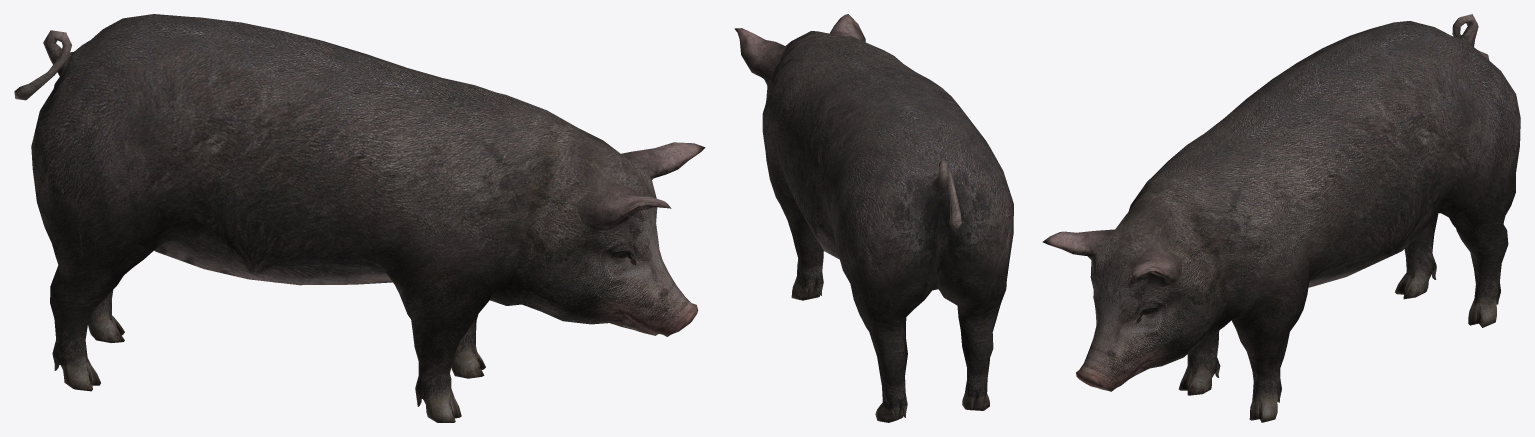
3 views of the same model, side by side, from view 1: azimuth 30°, elevation 25°; view 2: azimuth 150°, elevation 25°; view 3: azimuth 270°, elevation 25° (orthographic). The views are drawn at different scales.
Parts seen in each view (by area): view 1: Mesh_1244_Material #25_0; view 2: Mesh_1244_Material #25_0; view 3: Mesh_1244_Material #25_0.
Boxes of the visible parts, left/top/right/bottom form: Mesh_1244_Material #25_0: left=14, top=14, right=705, bottom=422; Mesh_1244_Material #25_0: left=734, top=14, right=1013, bottom=422; Mesh_1244_Material #25_0: left=1042, top=14, right=1520, bottom=422.
Bounding box in the file's own units: 130 × 84.32 × 125.
1 material, 1 textured.
